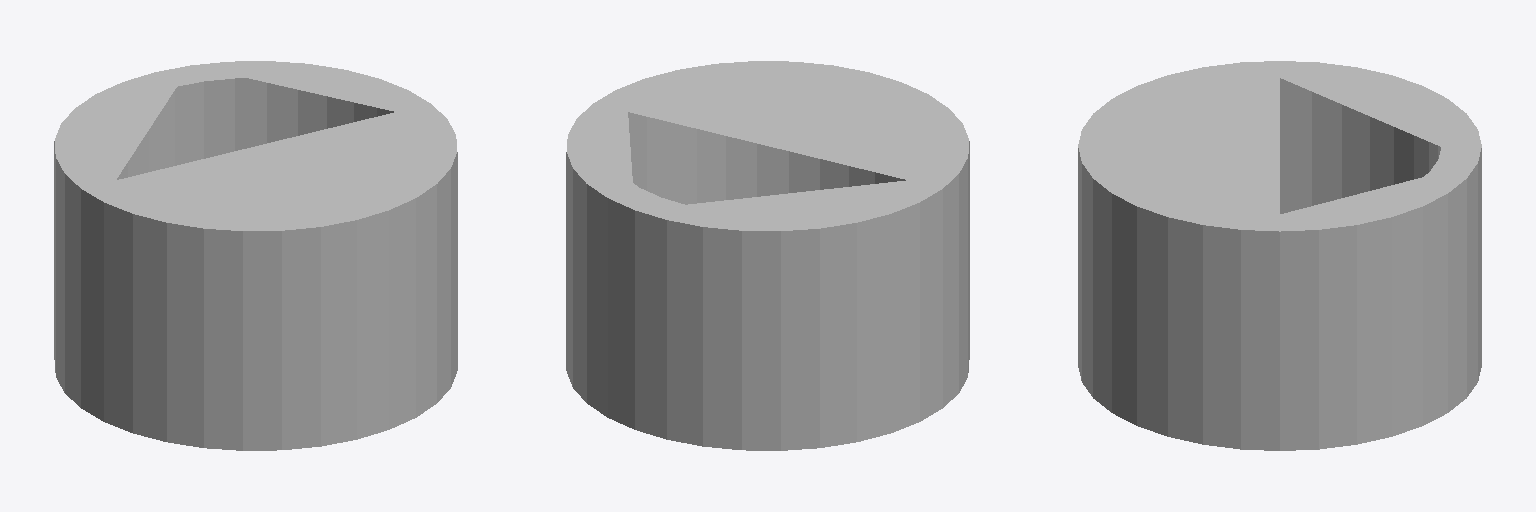
The model's file is halterung.obj.
3 views of the same model, side by side, from view 1: azimuth 30°, elevation 25°; view 2: azimuth 150°, elevation 25°; view 3: azimuth 270°, elevation 25° (orthographic).
Visible parts, largest first — view 1: Cylinder_Cylinder.009; view 2: Cylinder_Cylinder.009; view 3: Cylinder_Cylinder.009.
Boxes of the visible parts, x1,y1,x2,y2 form: Cylinder_Cylinder.009: [54, 61, 457, 450]; Cylinder_Cylinder.009: [566, 61, 969, 450]; Cylinder_Cylinder.009: [1078, 61, 1481, 450].
Bounding box in the file's own units: 0.025 × 0.015 × 0.025.